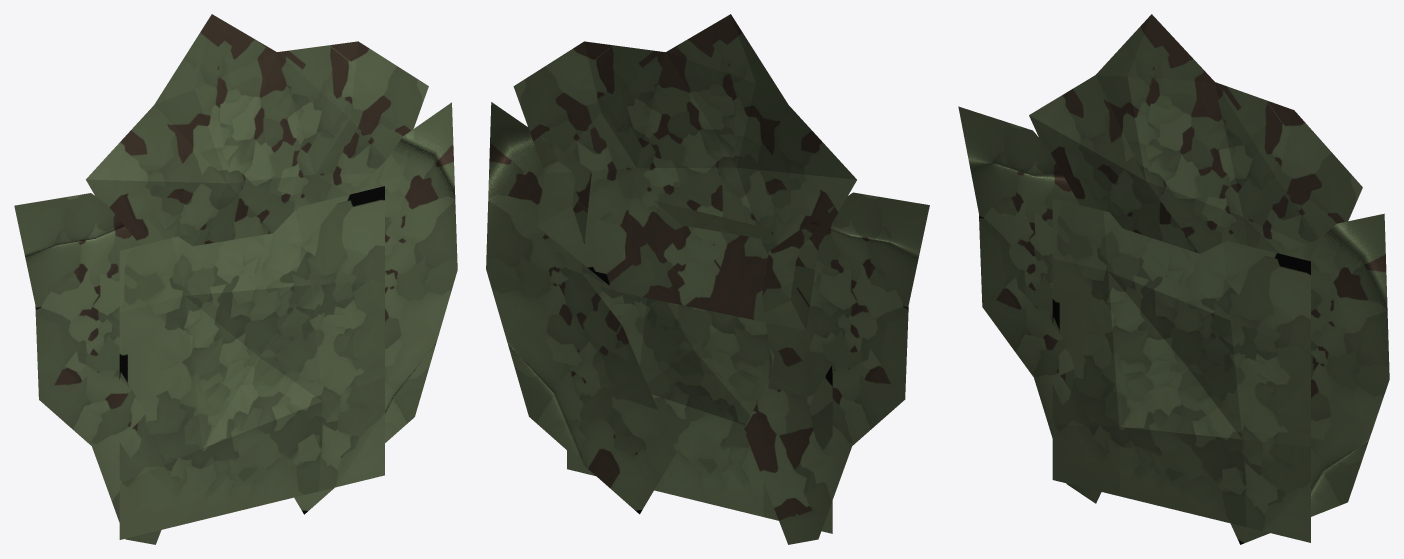
File: SM_Gen_Env_Ivy_08.gltf
3 views of the same model, side by side, from view 1: azimuth 30°, elevation 25°; view 2: azimuth 150°, elevation 25°; view 3: azimuth 330°, elevation 25° (orthographic). The views are drawn at different scales.
Parts seen in each view (by area): view 1: SM_Gen_Env_Ivy_08; view 2: SM_Gen_Env_Ivy_08; view 3: SM_Gen_Env_Ivy_08.
Boxes of the visible parts, <box> form: SM_Gen_Env_Ivy_08: <box>14,14,457,544</box>; SM_Gen_Env_Ivy_08: <box>486,14,929,544</box>; SM_Gen_Env_Ivy_08: <box>958,14,1389,544</box>.
Size of the model in its own units: 2.62 by 2.95 by 0.1224.
Materials: 1 (1 with a texture image).
